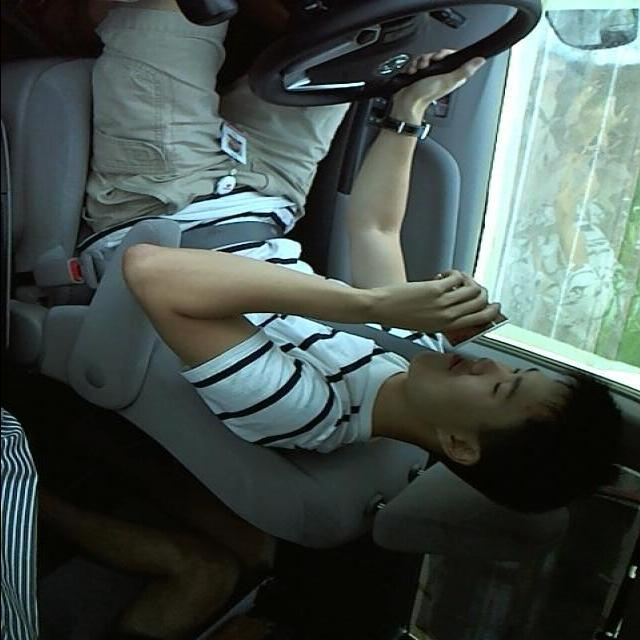drinking: (420, 270, 510, 348)
